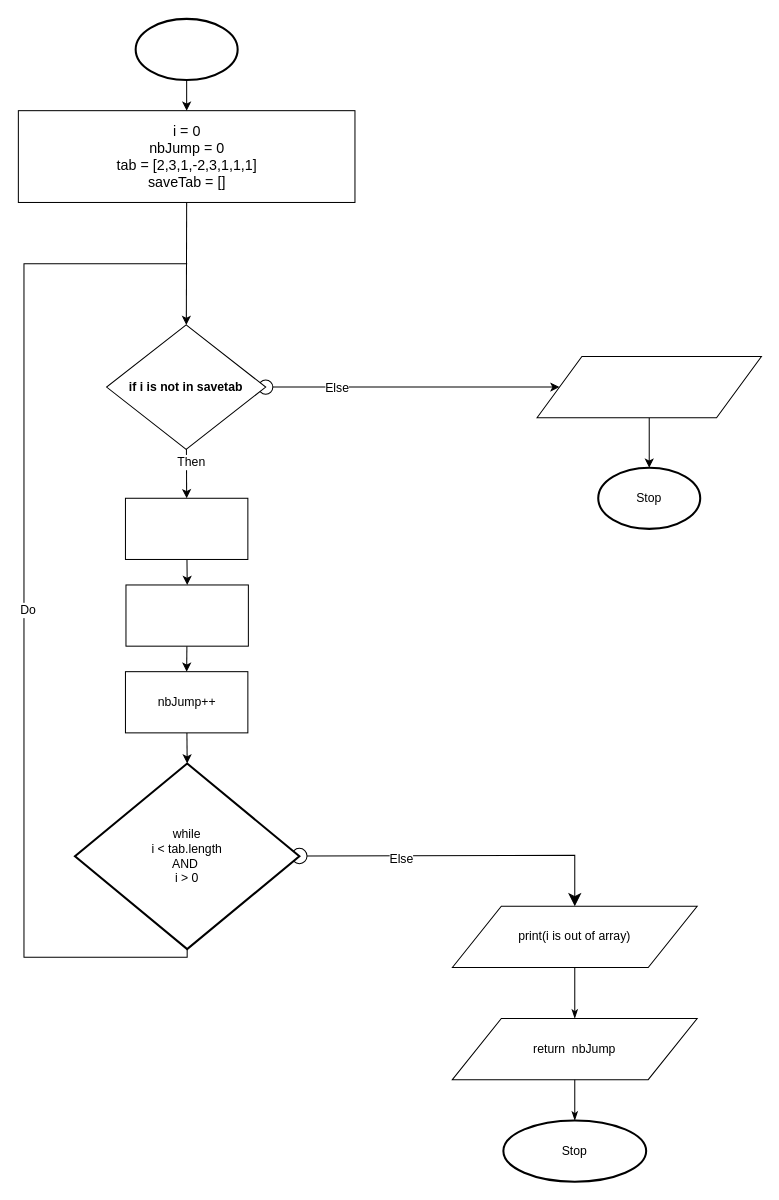
Some shapes in this 779 by 1200 pixel diagram are drawn without their labels. The shapes that lost their labels are listed below. From the top down, each one's centre as x and y in pixels, then its label:
(x=186, y=49): Start
(x=648, y=386): return: "infinity loop"
(x=186, y=528): push i in saveTab
(x=186, y=615): i = i + tab[i]
